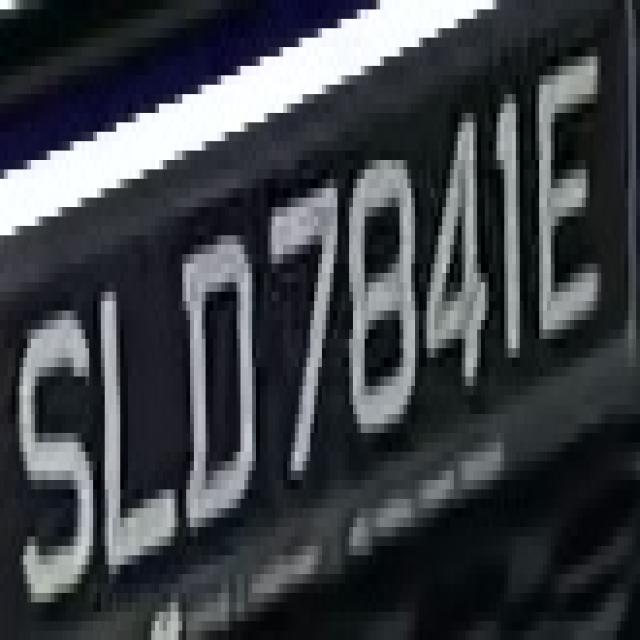1: (481, 76, 531, 423)
4: (415, 84, 493, 423)
7: (252, 142, 345, 490)
8: (329, 141, 426, 452)
D: (163, 235, 256, 556)
E: (524, 47, 612, 367)
L: (82, 254, 178, 593)
S: (4, 254, 89, 612)
